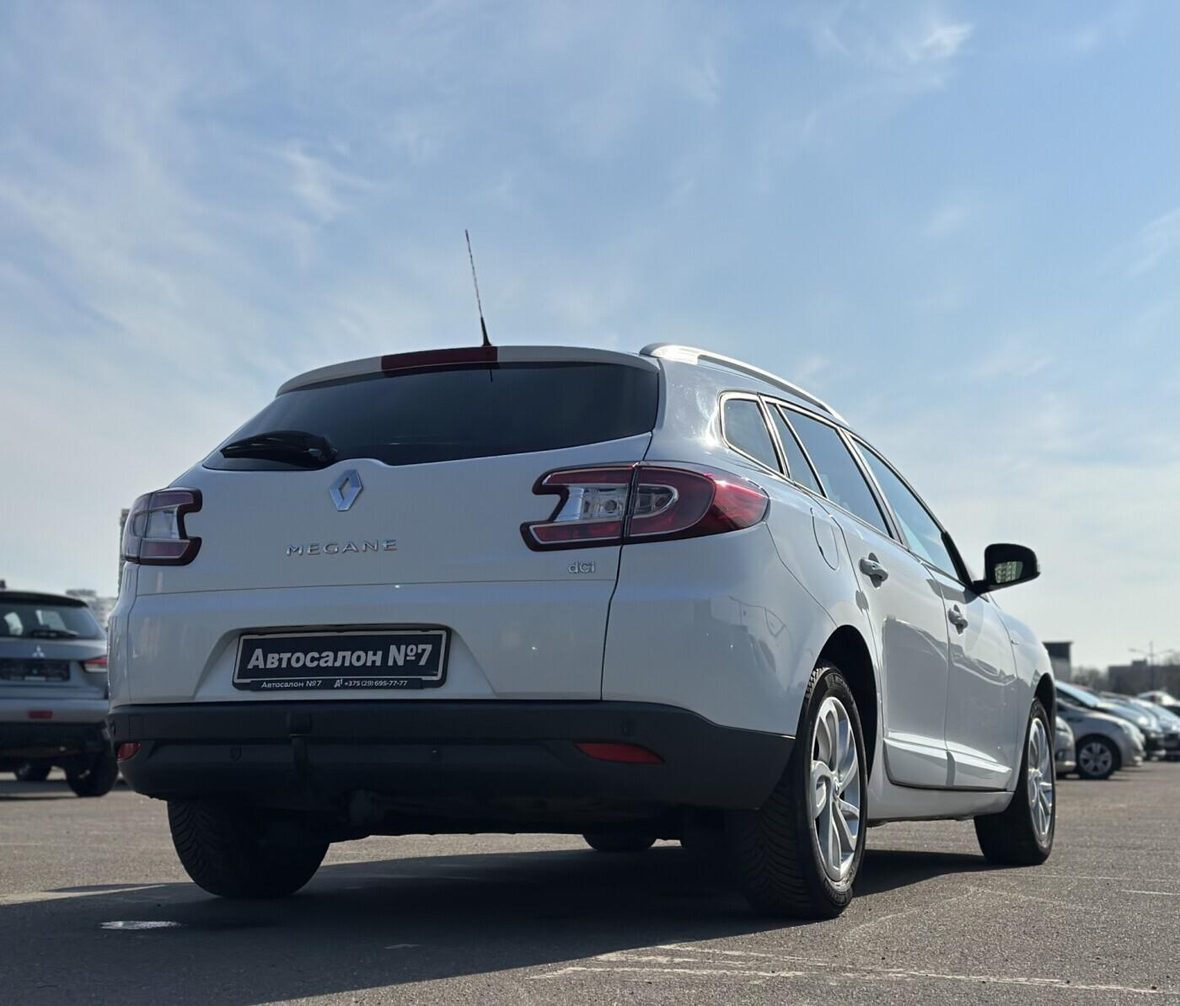Megane_2014-2016: (97, 336, 1083, 907)
